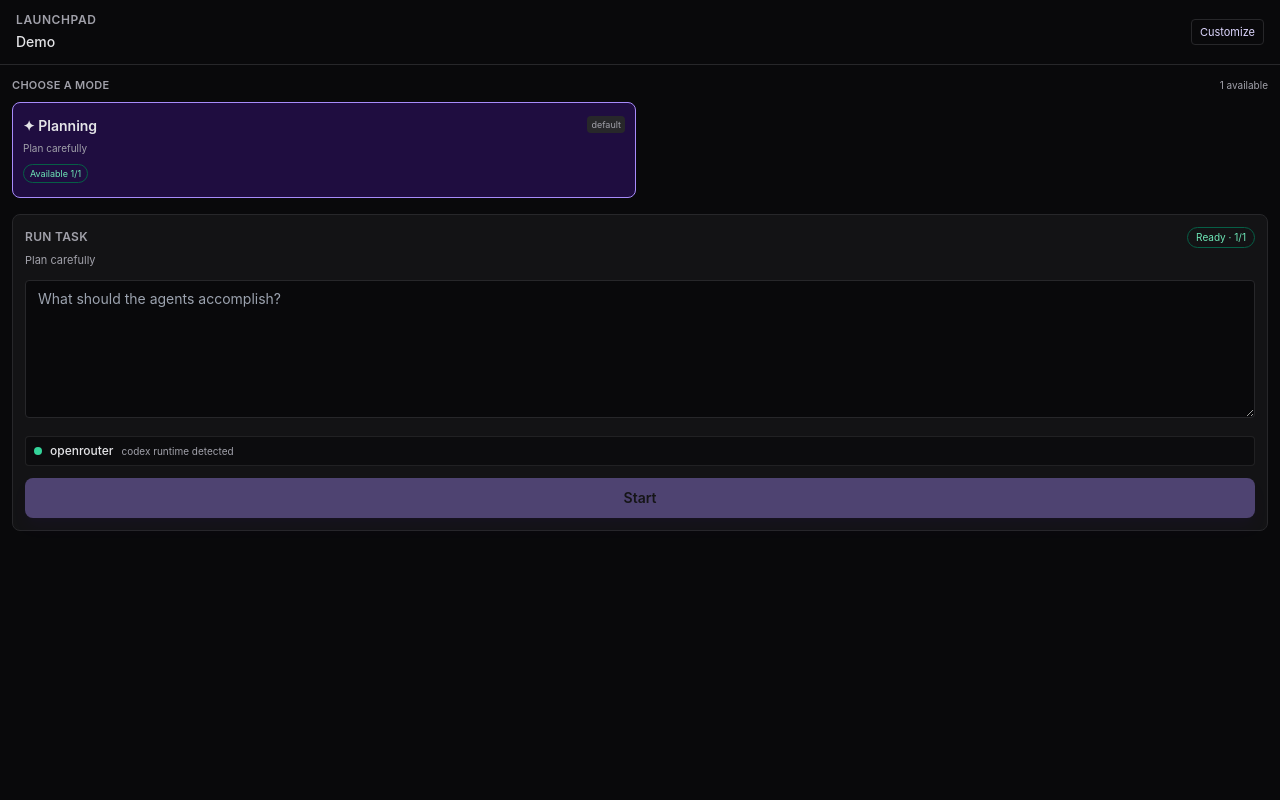
Test: WorkflowPanel › resolves an existing OpenRouter version and resets it when the model family changes
This screenshot has width=1280, height=800.
Step 1. Click the button "Customize" → [1227, 32], box left=1191, top=19, right=1264, bottom=45
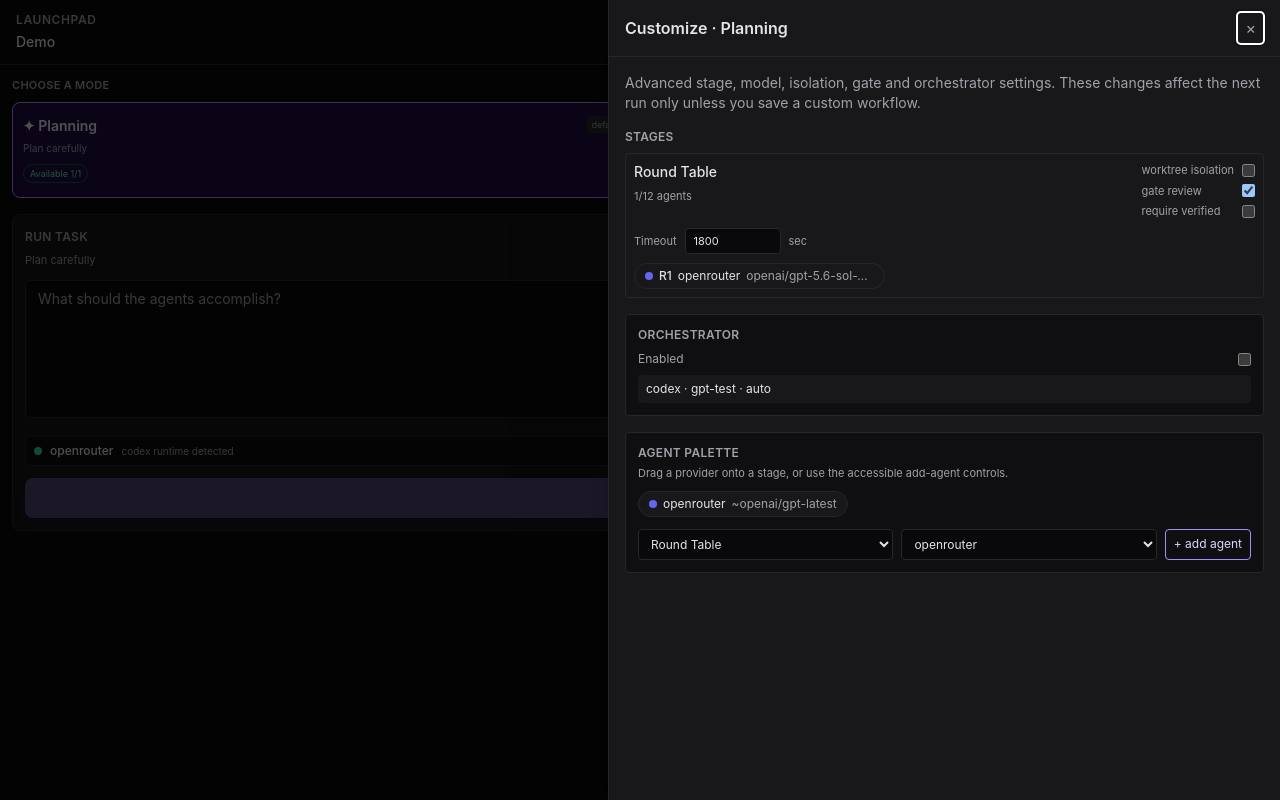
Step 2. Click the button "R1 openrouter openai/gpt-5.6-sol-20260709" → [760, 276], box left=634, top=262, right=885, bottom=289
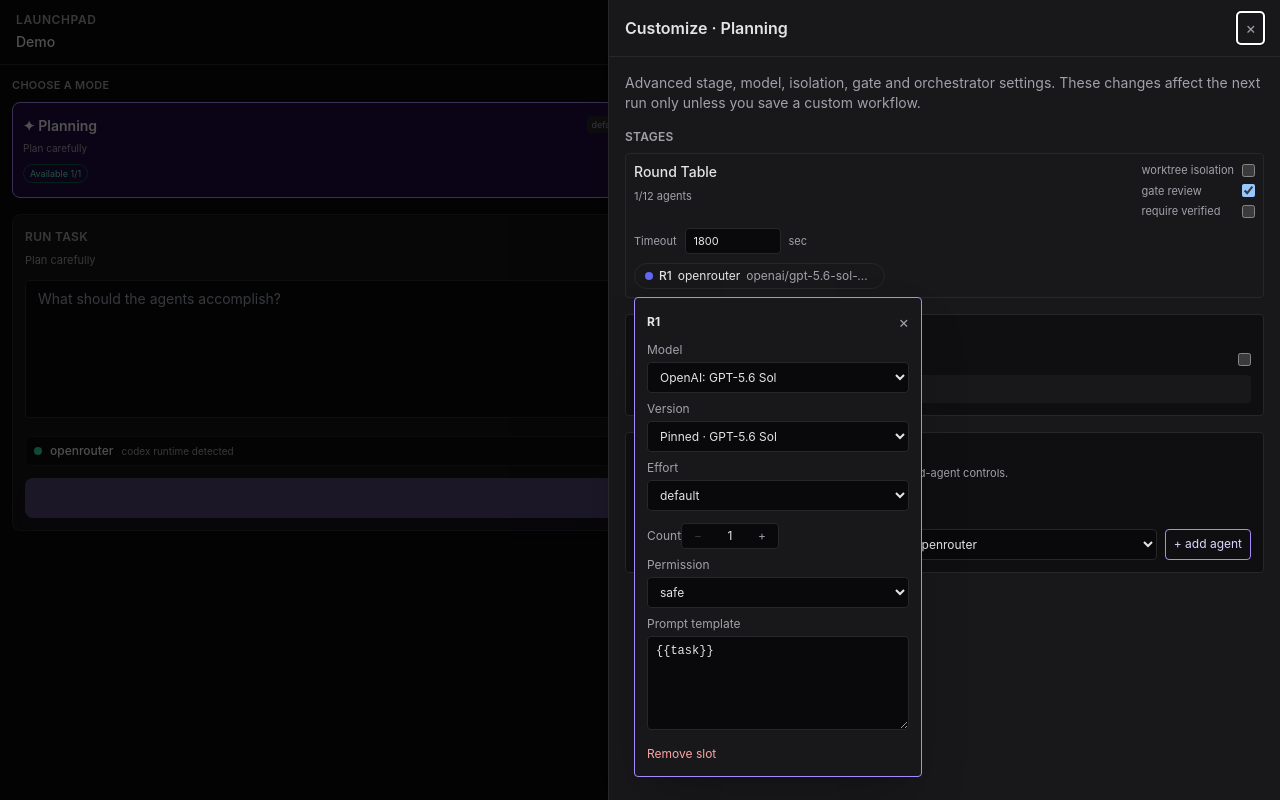
Expected: the dropdown labelled "Model" shows "OpenAI: GPT-5.6 Sol"
Expected: the dropdown labelled "Version" shows "Pinned · GPT-5.6 Sol", left=647, top=421, right=909, bottom=452
Step 3. Select "Anthropic: Claude Sonnet 4.6" in the dropdown labelled "Model" → [778, 378], box left=647, top=362, right=909, bottom=393
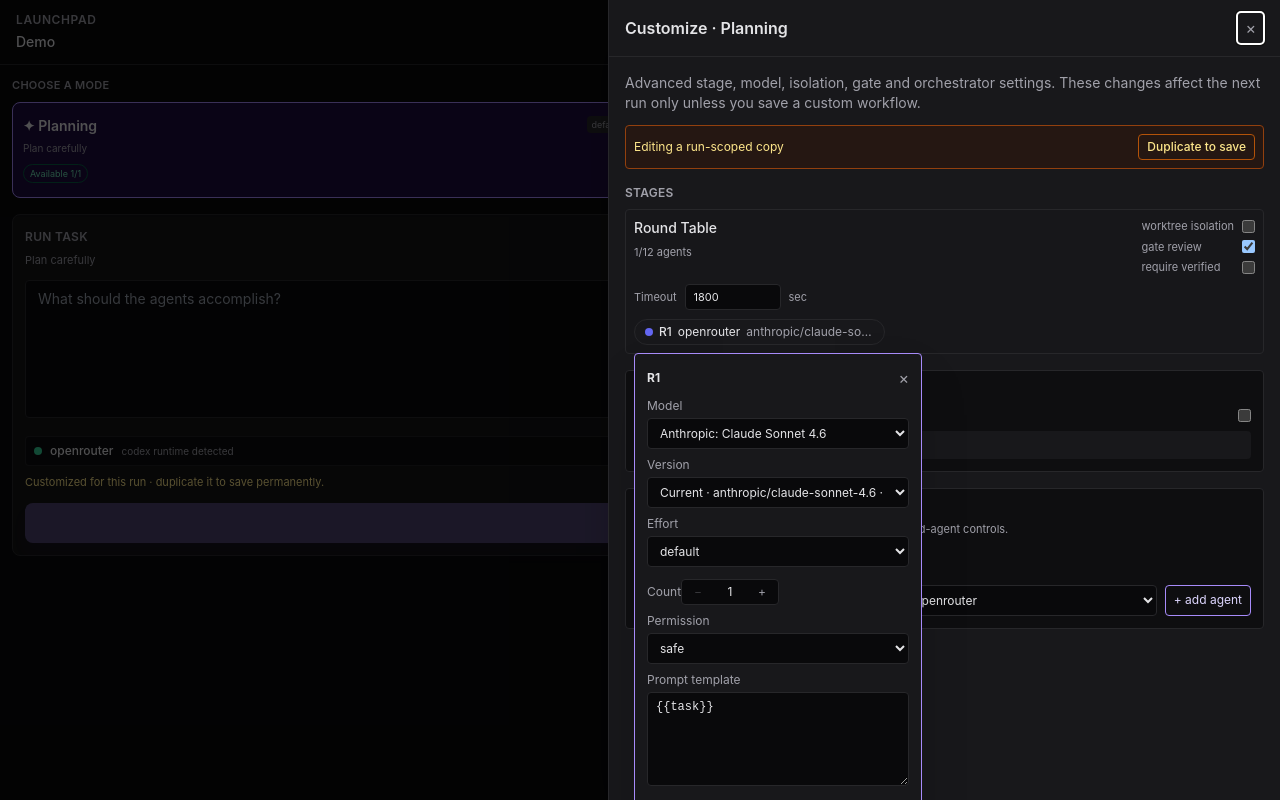
Expected: the text "anthropic/claude-sonnet-4.6" is shown, left=746, top=324, right=874, bottom=340
Expected: the dropdown labelled "Version" shows "Current · anthropic/claude-sonnet-4.6 · tool calling not advertised", left=647, top=477, right=909, bottom=508
